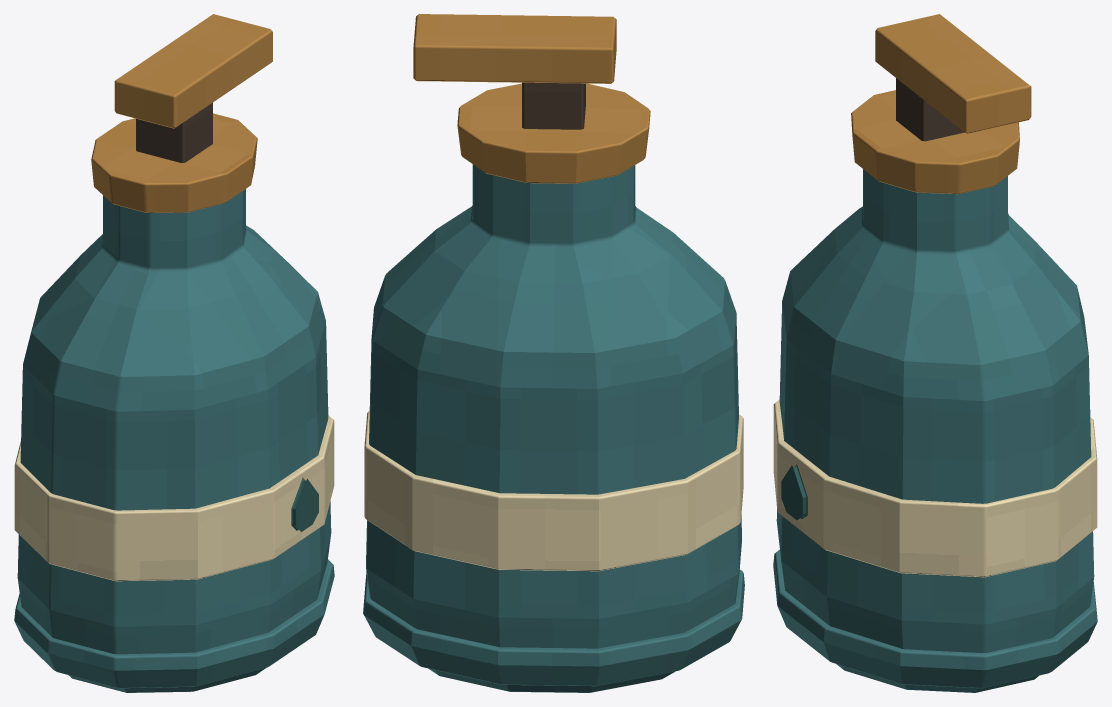
The model's file is CeramicPump.glb.
3 renders of one model, left to right at view 1: azimuth 30°, elevation 25°; view 2: azimuth 150°, elevation 25°; view 3: azimuth 270°, elevation 25°, orthographic. The views are drawn at different scales.
Parts seen in each view (by area): view 1: CeramicPump.Vessel, CeramicPump.Body-band, CeramicPump.Foot, CeramicPump.Pump-collar, CeramicPump.Dispenser-lever, CeramicPump.Pump-stem, CeramicPump.Drop-seal; view 2: CeramicPump.Vessel, CeramicPump.Body-band, CeramicPump.Foot, CeramicPump.Dispenser-lever, CeramicPump.Pump-collar, CeramicPump.Pump-stem; view 3: CeramicPump.Vessel, CeramicPump.Body-band, CeramicPump.Foot, CeramicPump.Dispenser-lever, CeramicPump.Pump-collar, CeramicPump.Pump-stem, CeramicPump.Drop-seal.
Boxes of the visible parts, left/top/right/bottom form: CeramicPump.Vessel: left=17, top=189, right=331, bottom=692; CeramicPump.Body-band: left=14, top=415, right=334, bottom=581; CeramicPump.Foot: left=14, top=559, right=334, bottom=688; CeramicPump.Pump-collar: left=91, top=113, right=257, bottom=212; CeramicPump.Dispenser-lever: left=114, top=14, right=272, bottom=128; CeramicPump.Pump-stem: left=136, top=102, right=212, bottom=162; CeramicPump.Drop-seal: left=291, top=477, right=318, bottom=531; CeramicPump.Vessel: left=366, top=164, right=741, bottom=692; CeramicPump.Body-band: left=364, top=410, right=743, bottom=571; CeramicPump.Foot: left=363, top=569, right=744, bottom=686; CeramicPump.Dispenser-lever: left=413, top=14, right=616, bottom=83; CeramicPump.Pump-collar: left=457, top=83, right=650, bottom=183; CeramicPump.Pump-stem: left=522, top=82, right=585, bottom=129; CeramicPump.Vessel: left=776, top=169, right=1094, bottom=692; CeramicPump.Body-band: left=773, top=399, right=1097, bottom=577; CeramicPump.Foot: left=773, top=549, right=1097, bottom=688; CeramicPump.Dispenser-lever: left=875, top=14, right=1031, bottom=133; CeramicPump.Pump-collar: left=851, top=90, right=1019, bottom=194; CeramicPump.Pump-stem: left=896, top=78, right=964, bottom=141; CeramicPump.Drop-seal: left=781, top=464, right=807, bottom=520.
Size of the model in its own units: 0.2279 by 0.4092 by 0.2037.
Materials: 5 (5 with a texture image).
